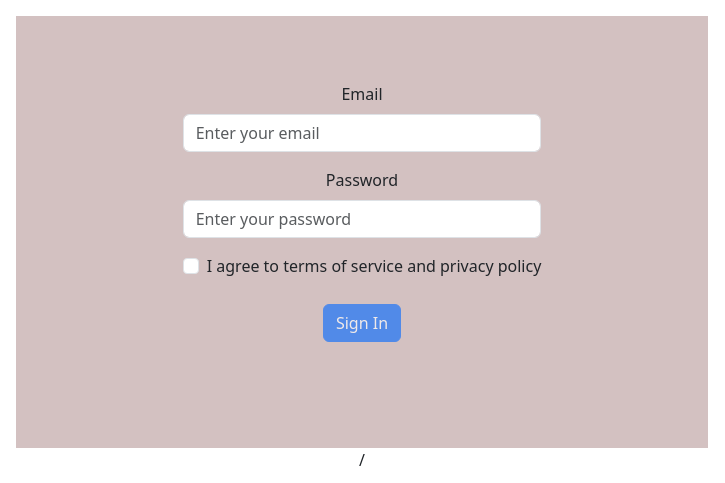
Login Form Tests › password ve email yanlış girildiğinde
This screenshot has width=725, height=483.
Type "yanlis@email" into the field with test id "email" at (363, 133), box [183,114,542,152]
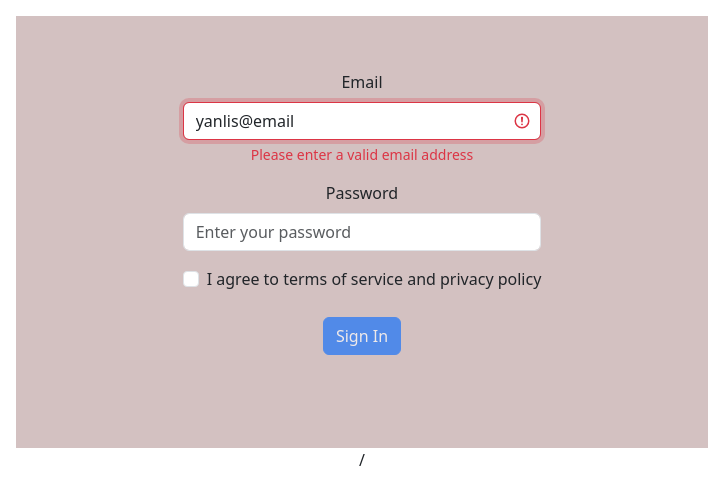
Type "123" into the password field with test id "password" at (363, 232), box [183,213,542,251]
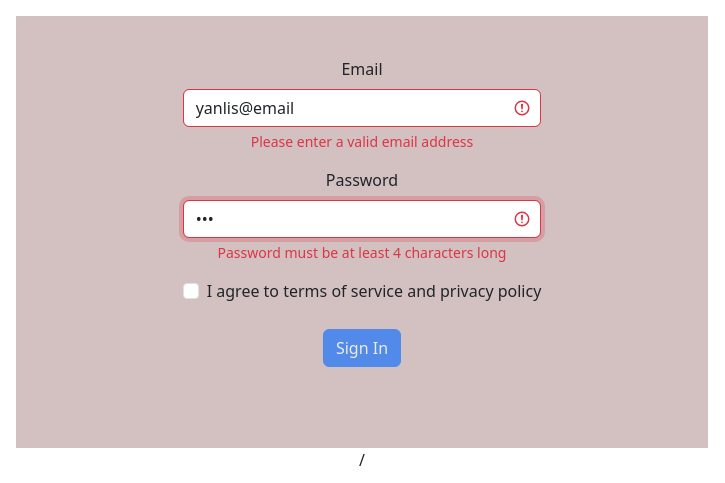
Expected: the text "Password must be at least 4 characters long" is shown, [218,243,506,262]
Expected: the number of elements with test id "error-message" is 2, [251,132,473,151]; [218,243,506,262]
